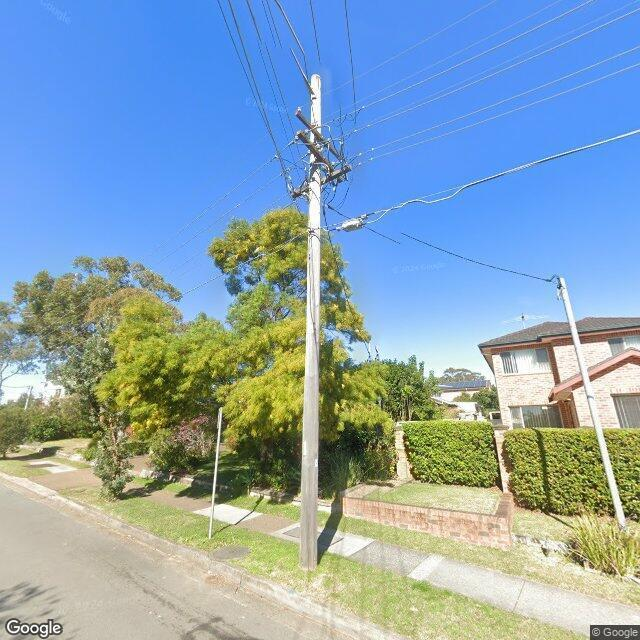crossarm: (295, 110, 346, 162), (298, 130, 345, 182), (290, 163, 352, 199)
steel-pole: (557, 277, 626, 528)
timber-pole: (298, 74, 322, 571)
